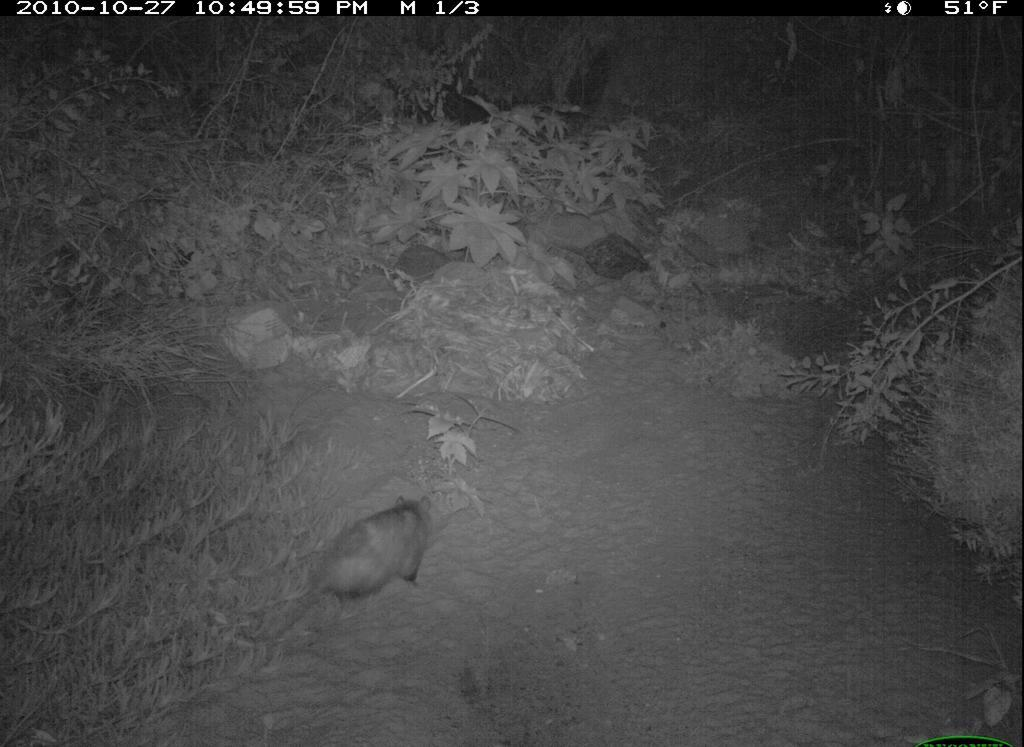opossum: (237, 496, 456, 652)
